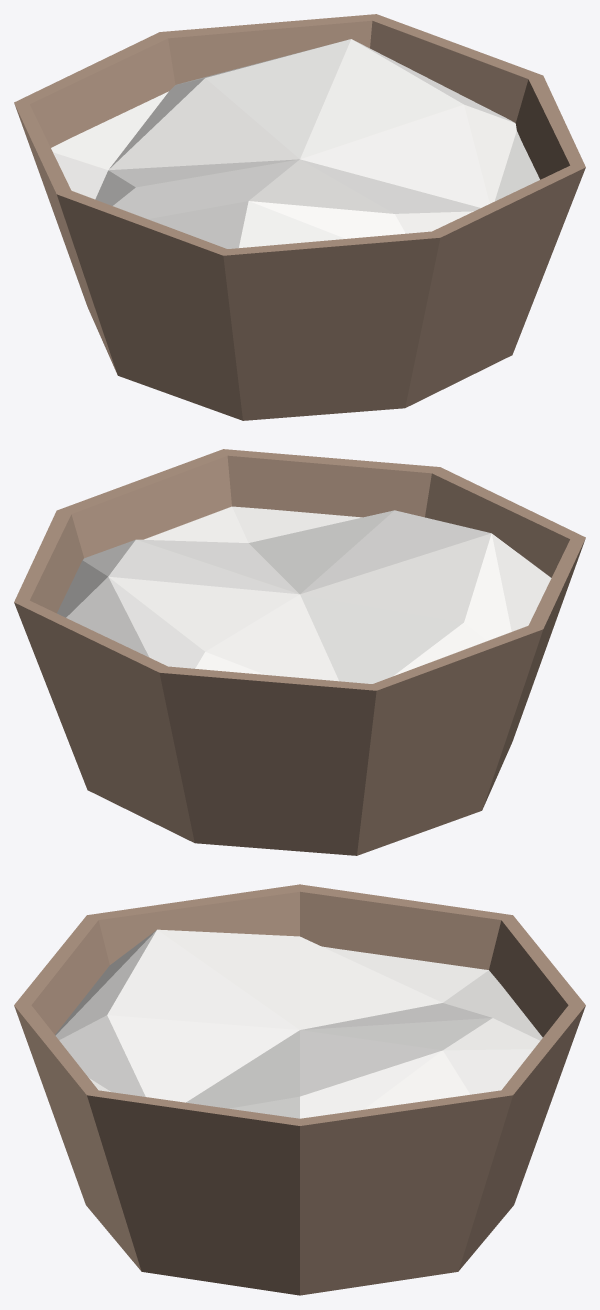
Rendered from Basket_2.fbx.
3 renders of one model, top to bottom at view 1: azimuth 30°, elevation 25°; view 2: azimuth 150°, elevation 25°; view 3: azimuth 270°, elevation 25°, orthographic.
Visible parts, largest first — view 1: Basket_2; view 2: Basket_2; view 3: Basket_2.
Part boxes in pixels (<box>): Basket_2: <box>14,14,585,420</box>; Basket_2: <box>14,449,585,855</box>; Basket_2: <box>14,884,585,1295</box>.
Size of the model in its own units: 68.29 by 68.29 by 28.91.
